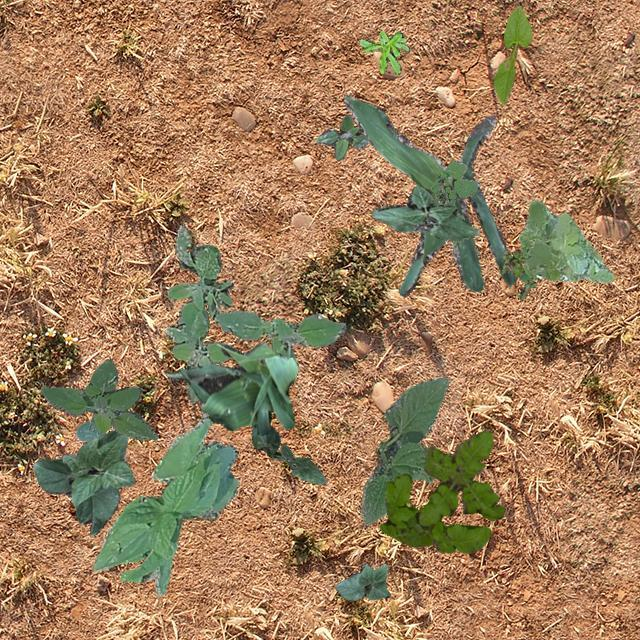crop: (342, 95, 516, 296), (91, 412, 238, 594), (359, 376, 448, 524), (164, 340, 298, 434), (32, 428, 134, 536), (370, 183, 480, 240), (250, 424, 326, 484), (492, 5, 530, 104), (334, 562, 388, 600)
weed: (164, 224, 344, 402), (378, 430, 504, 552), (40, 358, 156, 440), (518, 198, 614, 282), (428, 160, 476, 244), (358, 30, 408, 74), (316, 114, 366, 158), (500, 248, 536, 298)
